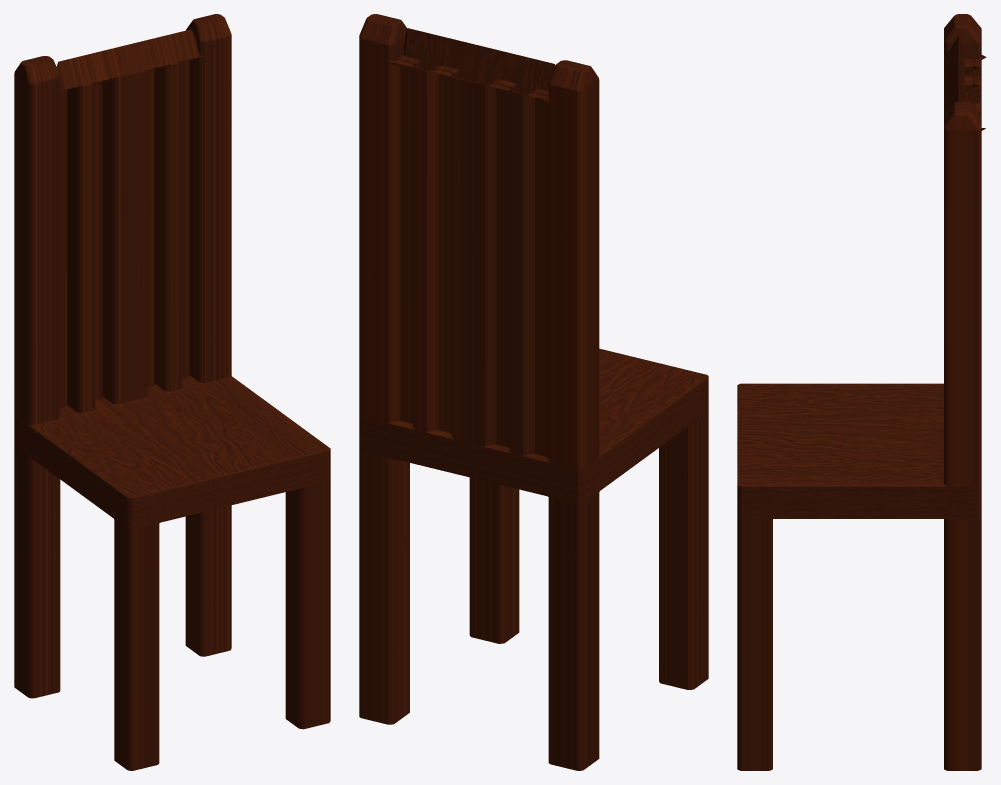
File: Chair_Textured.fbx
3 views of the same model, side by side, from view 1: azimuth 30°, elevation 25°; view 2: azimuth 150°, elevation 25°; view 3: azimuth 270°, elevation 25° (orthographic). The views are drawn at different scales.
Visible parts, largest first — view 1: Cube.001; view 2: Cube.001; view 3: Cube.001.
Part boxes in pixels (bbox=[...]): Cube.001: bbox=[14, 14, 330, 770]; Cube.001: bbox=[359, 14, 708, 770]; Cube.001: bbox=[737, 14, 986, 770].
Size of the model in its own units: 100 by 296 by 102.
1 material, 1 textured.
